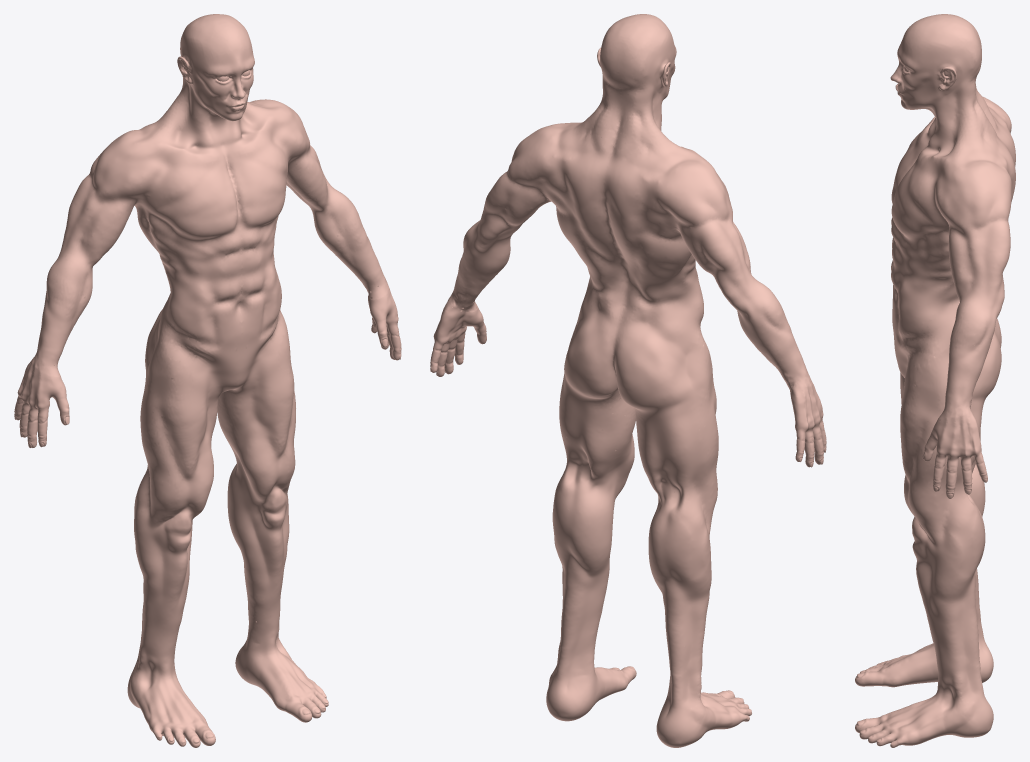
File: cuerpo_masculino.glb
The picture shows the model from 3 angles, left to right: view 1: azimuth 30°, elevation 25°; view 2: azimuth 150°, elevation 25°; view 3: azimuth 270°, elevation 25°; orthographic projection. The views are drawn at different scales.
Visible parts, largest first — view 1: Mball.025; view 2: Mball.025; view 3: Mball.025.
Part boxes in pixels (bbox=[...]): Mball.025: bbox=[14, 14, 401, 747]; Mball.025: bbox=[430, 14, 826, 747]; Mball.025: bbox=[855, 14, 1015, 747].
Size of the model in its own units: 194 by 343 by 72.45.
